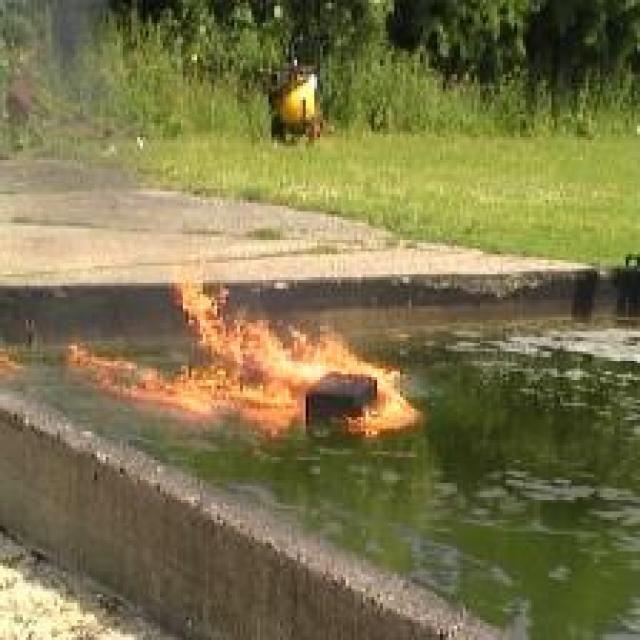Fire: (63, 255, 426, 436)
